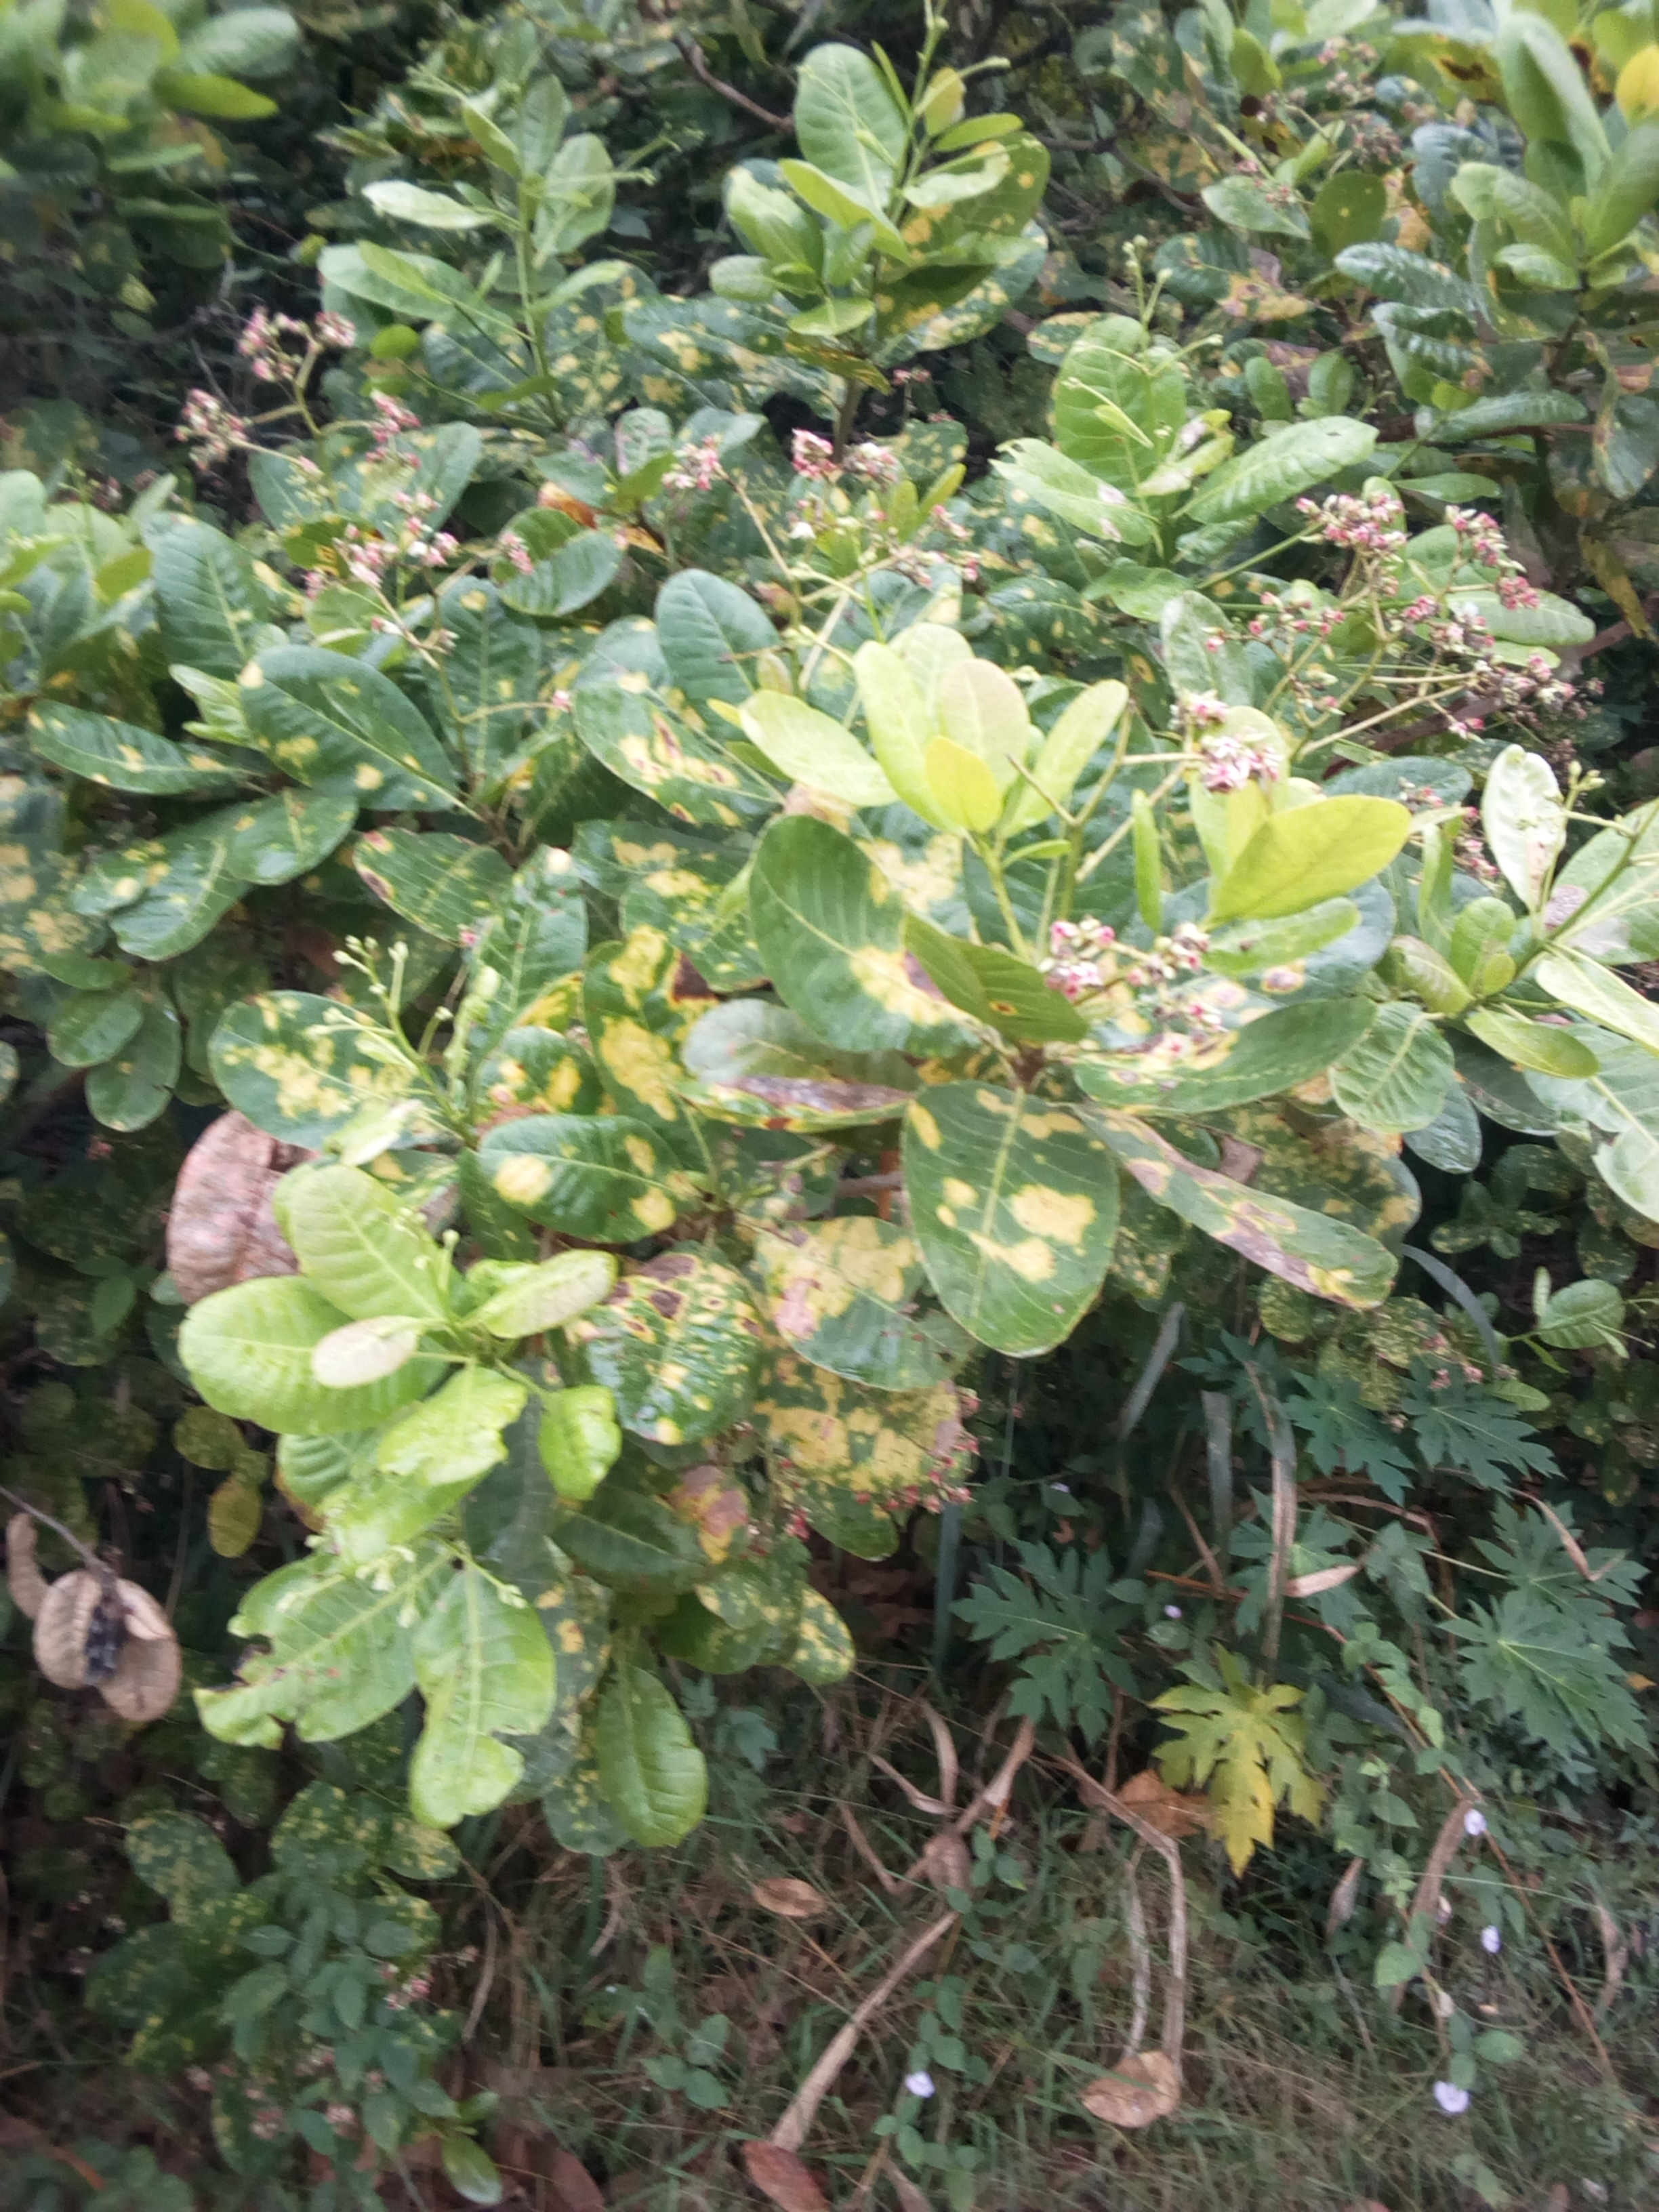Carence minérale: (880, 1075, 1178, 1367), (1107, 1096, 1443, 1317), (741, 819, 979, 1078), (732, 1332, 985, 1561), (179, 960, 450, 1170), (183, 1540, 416, 1777), (234, 629, 488, 838), (579, 1235, 779, 1458), (464, 1547, 636, 1804), (552, 662, 782, 848), (0, 683, 295, 808), (561, 937, 721, 1137), (897, 134, 1107, 275), (613, 282, 789, 435), (976, 561, 1145, 686), (765, 1597, 861, 1689)
